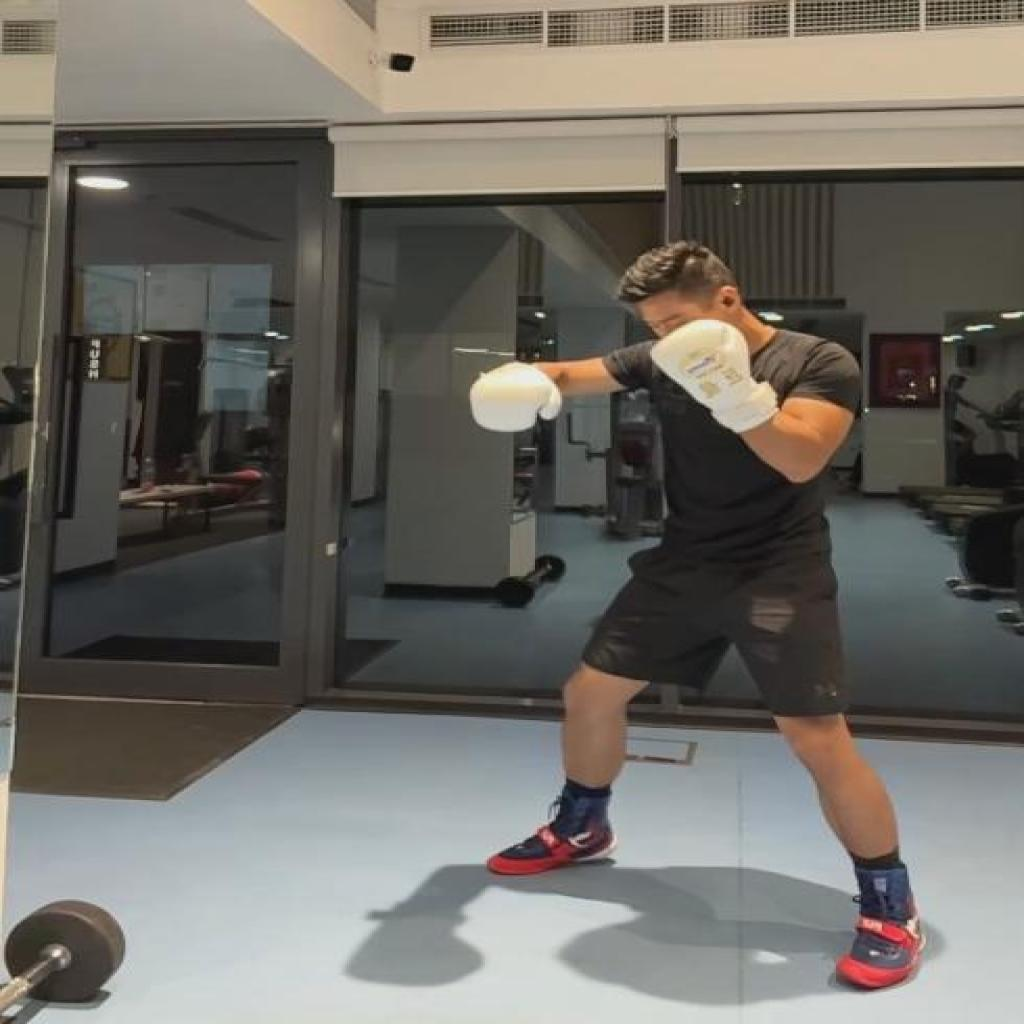hook: (464, 242, 928, 995)
